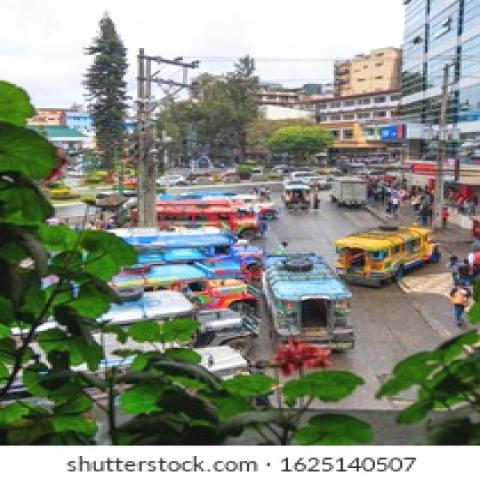jeepney: (264, 250, 354, 360), (340, 209, 438, 299), (163, 297, 256, 346), (188, 226, 262, 270), (172, 265, 253, 303), (179, 238, 244, 280), (196, 200, 262, 241), (226, 182, 276, 220), (279, 179, 315, 215)
truck: (327, 173, 372, 209)
